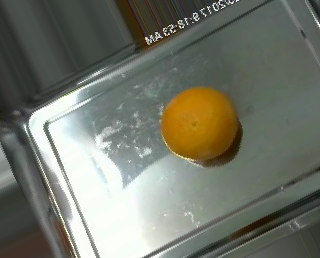Orange: (161, 85, 240, 162)
